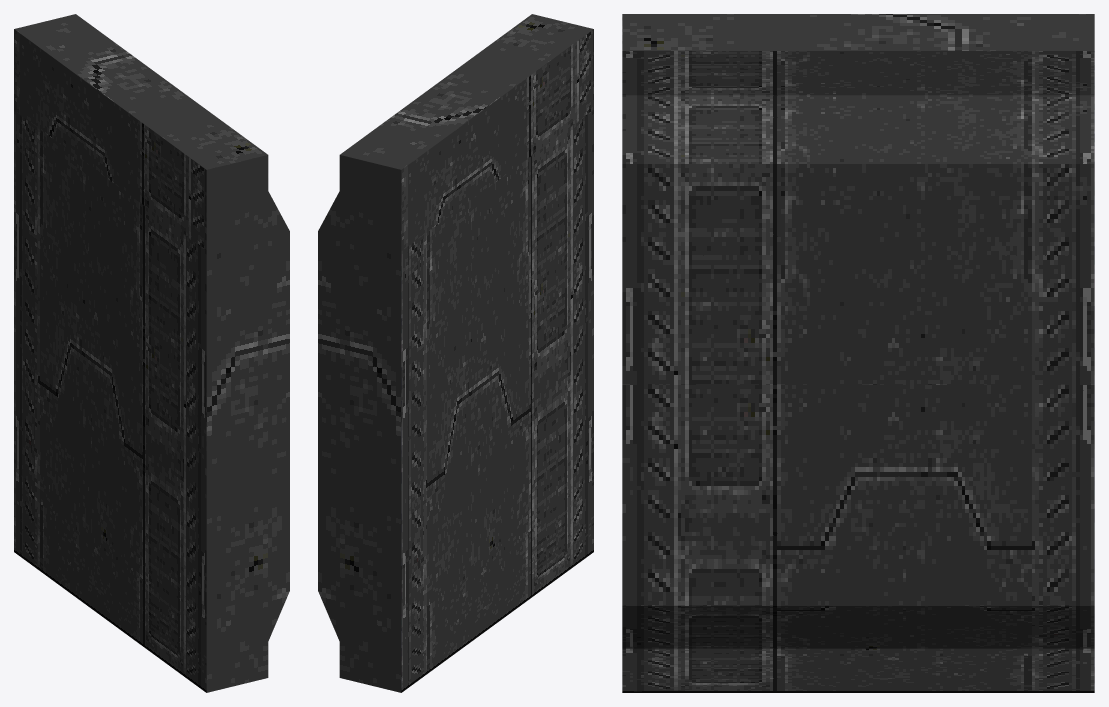
Rendered from Meta_Pattern_Fat_wall-col.glb.
The picture shows the model from 3 angles, left to right: view 1: azimuth 30°, elevation 25°; view 2: azimuth 150°, elevation 25°; view 3: azimuth 270°, elevation 25°; orthographic projection. The views are drawn at different scales.
Visible parts, largest first — view 1: Meta_Pattern_Fat_wall-col; view 2: Meta_Pattern_Fat_wall-col; view 3: Meta_Pattern_Fat_wall-col.
Part boxes in pixels (box(x1,y1,x2,y2)): Meta_Pattern_Fat_wall-col: box(14, 14, 289, 692); Meta_Pattern_Fat_wall-col: box(318, 14, 593, 692); Meta_Pattern_Fat_wall-col: box(622, 14, 1094, 692).
Size of the model in its own units: 0.5 by 3 by 2.
1 material, 1 textured.
